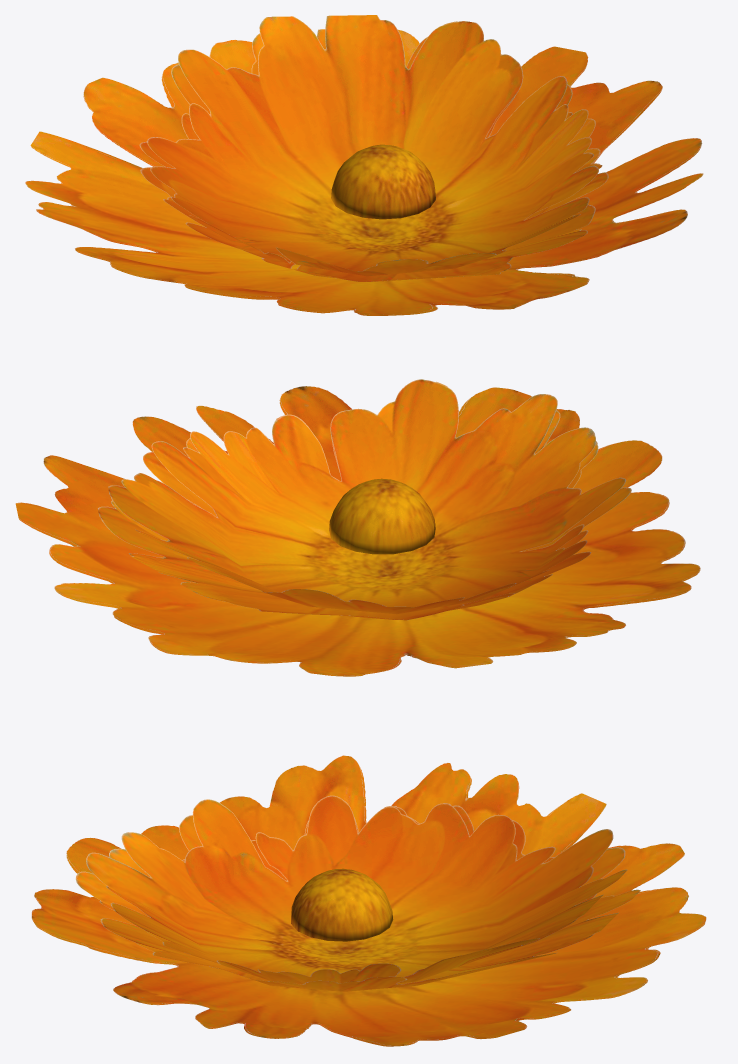
Rendered from Y_Fleur_animated.FBX.
The picture shows the model from 3 angles, top to bottom: view 1: azimuth 30°, elevation 25°; view 2: azimuth 150°, elevation 25°; view 3: azimuth 270°, elevation 25°; orthographic projection. The views are drawn at different scales.
Parts seen in each view (by area): view 1: Y_Petals01, Y_Petals02, Y_Petals01_back, Y_Fleur, Y_Petals02_back; view 2: Y_Petals01, Y_Petals02, Y_Petals01_back, Y_Fleur, Y_Petals02_back; view 3: Y_Petals01, Y_Petals02, Y_Petals01_back, Y_Fleur, Y_Petals02_back.
Boxes of the visible parts, x1,y1,x2,y2 form: Y_Petals01: (147,15,598,276); Y_Petals02: (25,29,703,314); Y_Petals01_back: (139,29,608,281); Y_Fleur: (331,144,435,219); Y_Petals02_back: (27,53,701,315); Y_Petals01: (108,379,626,614); Y_Petals02: (15,386,700,675); Y_Petals01_back: (98,410,631,620); Y_Fleur: (329,478,435,554); Y_Petals02_back: (19,398,699,676); Y_Petals01: (86,795,627,984); Y_Petals02: (31,755,706,1045); Y_Petals01_back: (75,805,640,991); Y_Fleur: (291,868,393,941); Y_Petals02_back: (32,766,704,1046).
Bounding box in the file's own units: 60.1 × 12.22 × 60.19.
